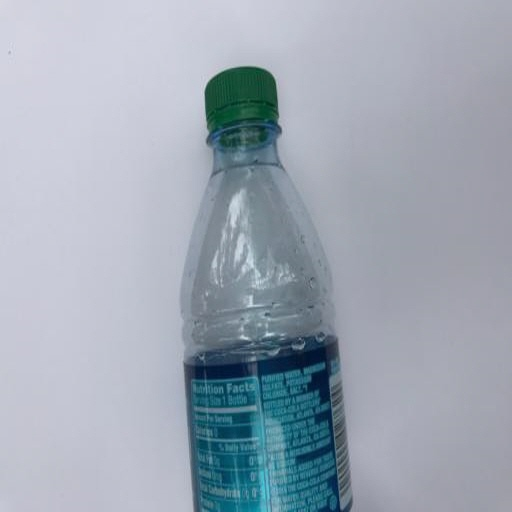Plastic_0: (184, 68, 353, 512)
